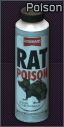LVNDMARKs rat poison: (0, 0, 64, 127)
